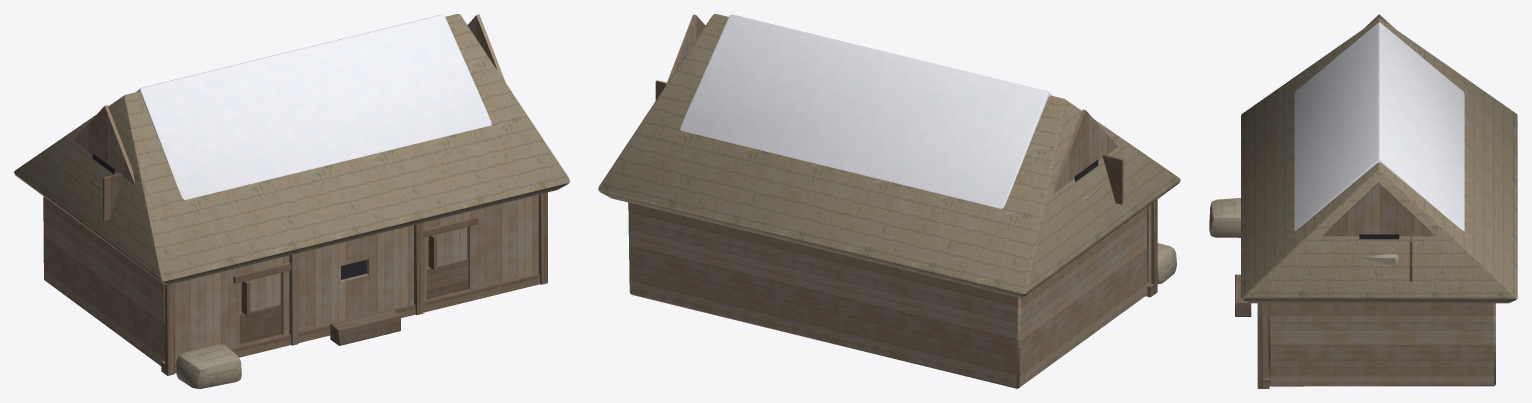
File: klep_stable.glb
3 renders of one model, left to right at view 1: azimuth 30°, elevation 25°; view 2: azimuth 150°, elevation 25°; view 3: azimuth 270°, elevation 25°, orthographic. The views are drawn at different scales.
Parts seen in each view (by area): view 1: klep_stable; view 2: klep_stable; view 3: klep_stable.
Part boxes in pixels (box(x1,y1,x2,y2)): klep_stable: box(14, 14, 569, 388); klep_stable: box(598, 14, 1180, 388); klep_stable: box(1209, 14, 1517, 388).
Size of what is drawn, in the model's own units: 13.2 by 7.07 by 9.29.
8 materials, 7 textured.
